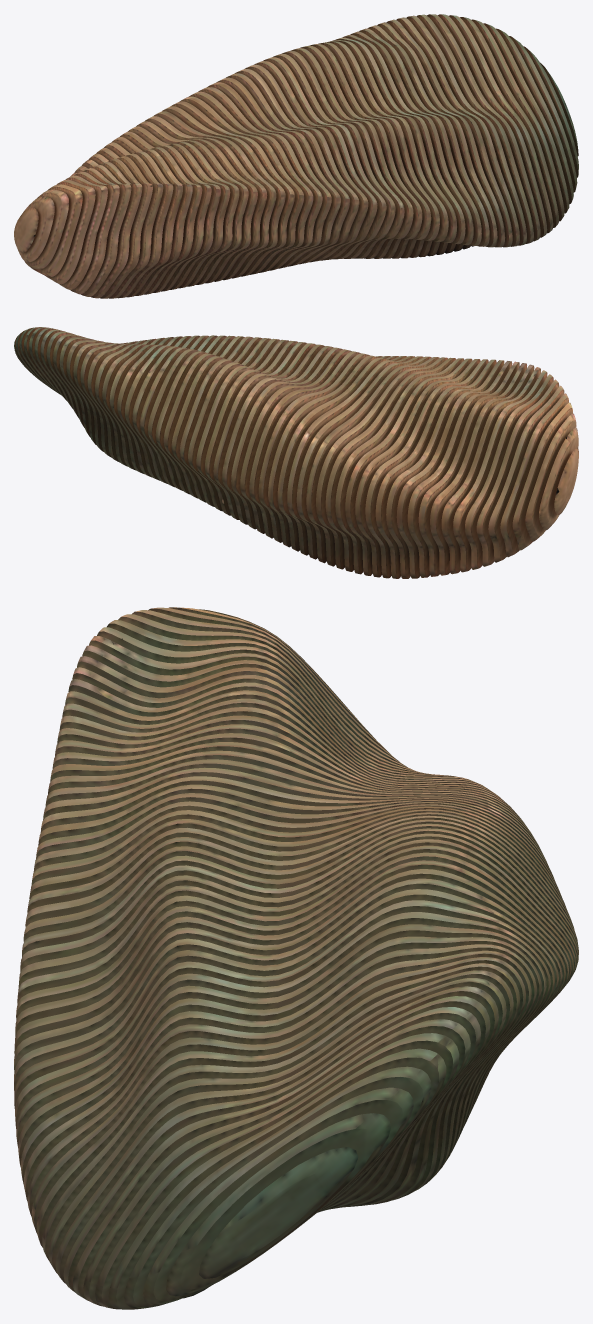
Rendered from parametric_designer_double_seat.glb.
The picture shows the model from 3 angles, top to bottom: view 1: azimuth 30°, elevation 25°; view 2: azimuth 150°, elevation 25°; view 3: azimuth 270°, elevation 25°; orthographic projection. The views are drawn at different scales.
Parts seen in each view (by area): view 1: Plane.002; view 2: Plane.002; view 3: Plane.002.
Boxes of the visible parts, x1,y1,x2,y2 form: Plane.002: (14,14,578,298); Plane.002: (14,327,578,578); Plane.002: (14,607,578,1309).
Size of what is drawn, in the model's own units: 7.5 by 2.32 by 3.46.
1 material, 1 textured.
